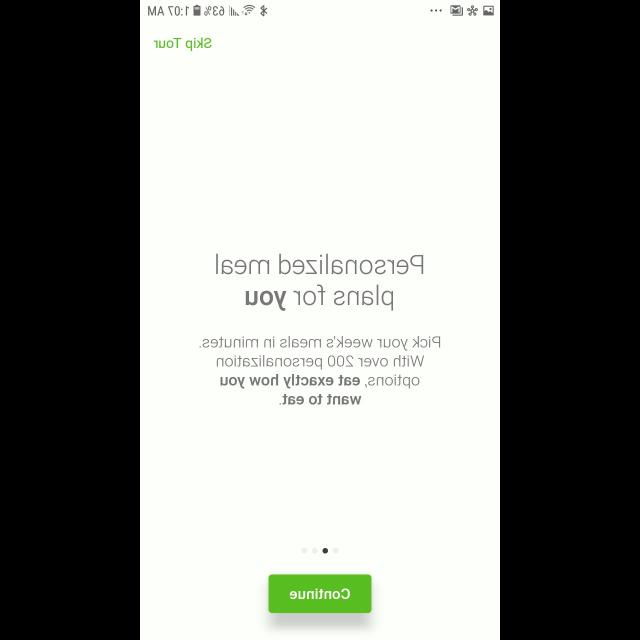pageindicator: (302, 548, 338, 554)
text: (200, 336, 440, 404), (216, 253, 424, 311), (154, 37, 212, 51)
textbutton: (268, 575, 372, 613)
uppertaskbar: (140, 1, 500, 22)
